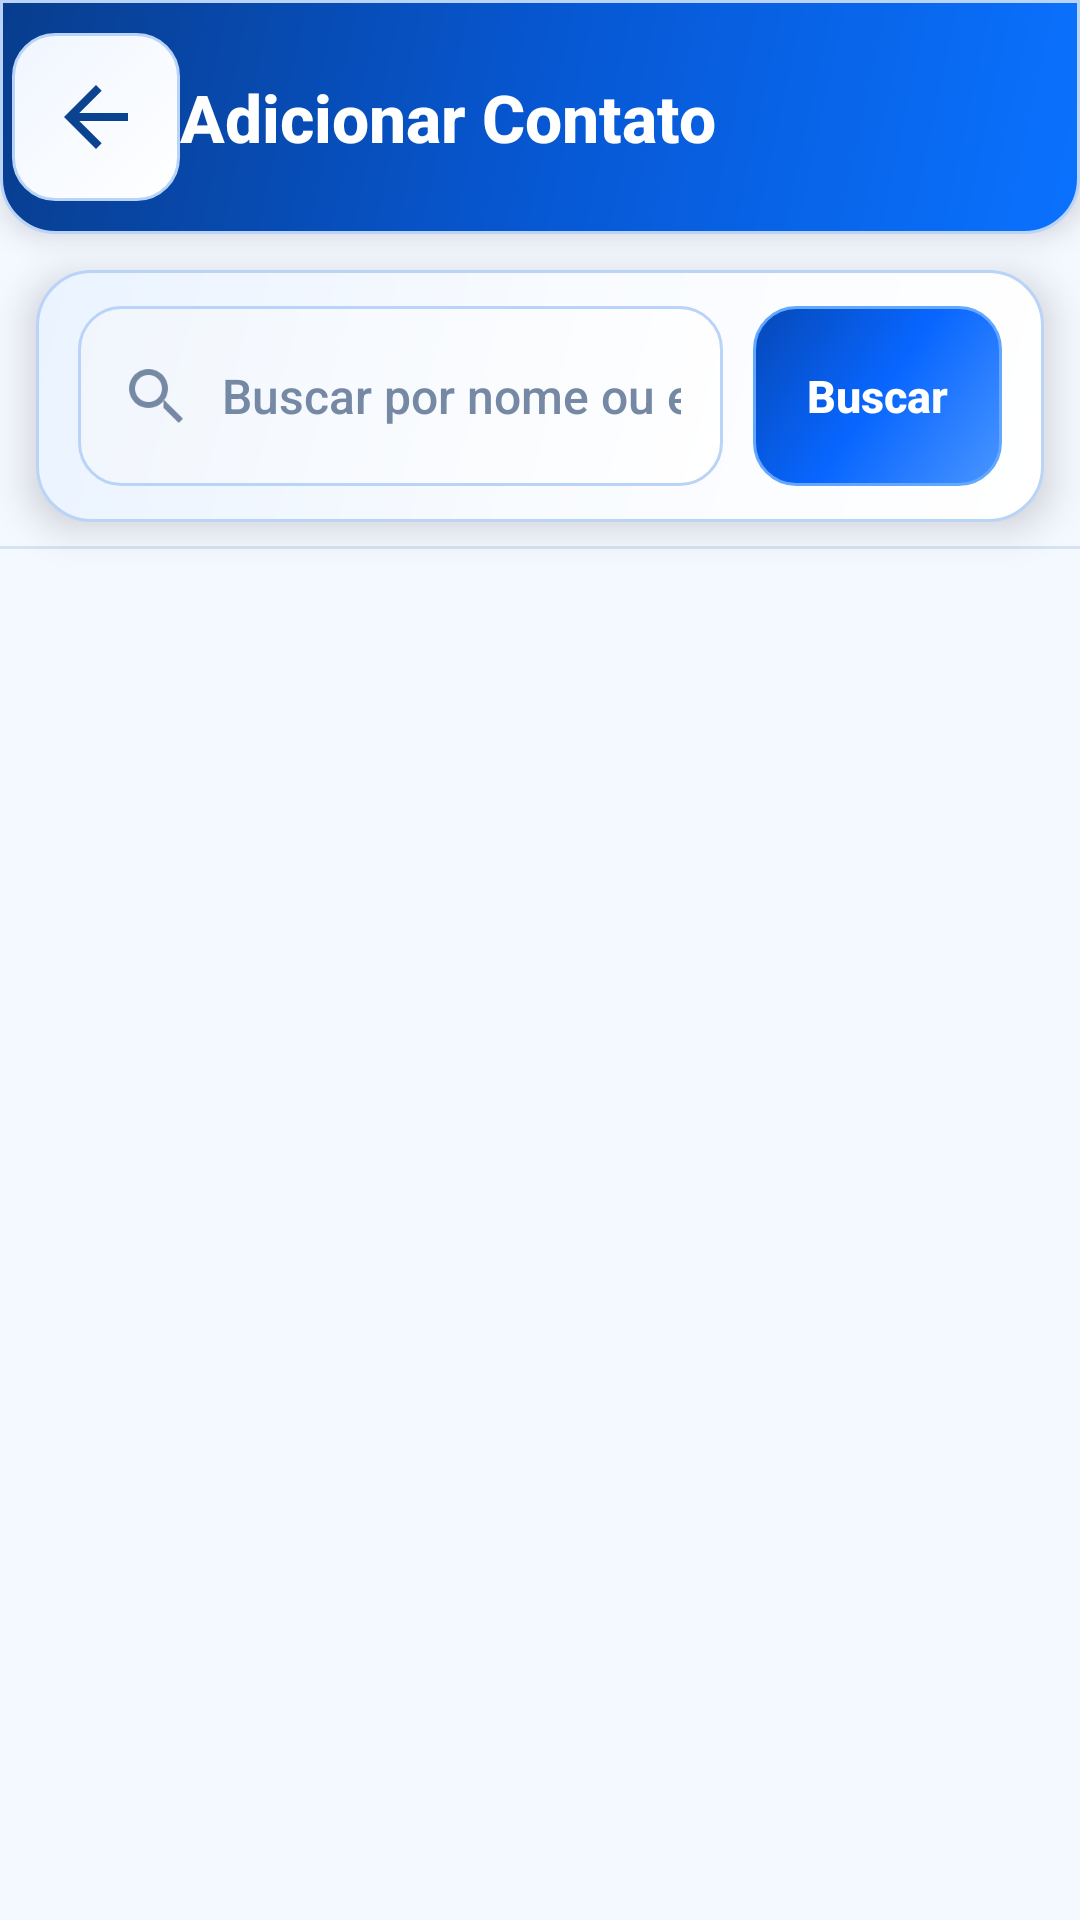

Locate icon controls on the screen. Image size 1080×1920, boxes as bbox=(x1, y1, x2, y2).
zen back: bbox=(12, 33, 180, 201)
zen search: bbox=(129, 369, 183, 423)
